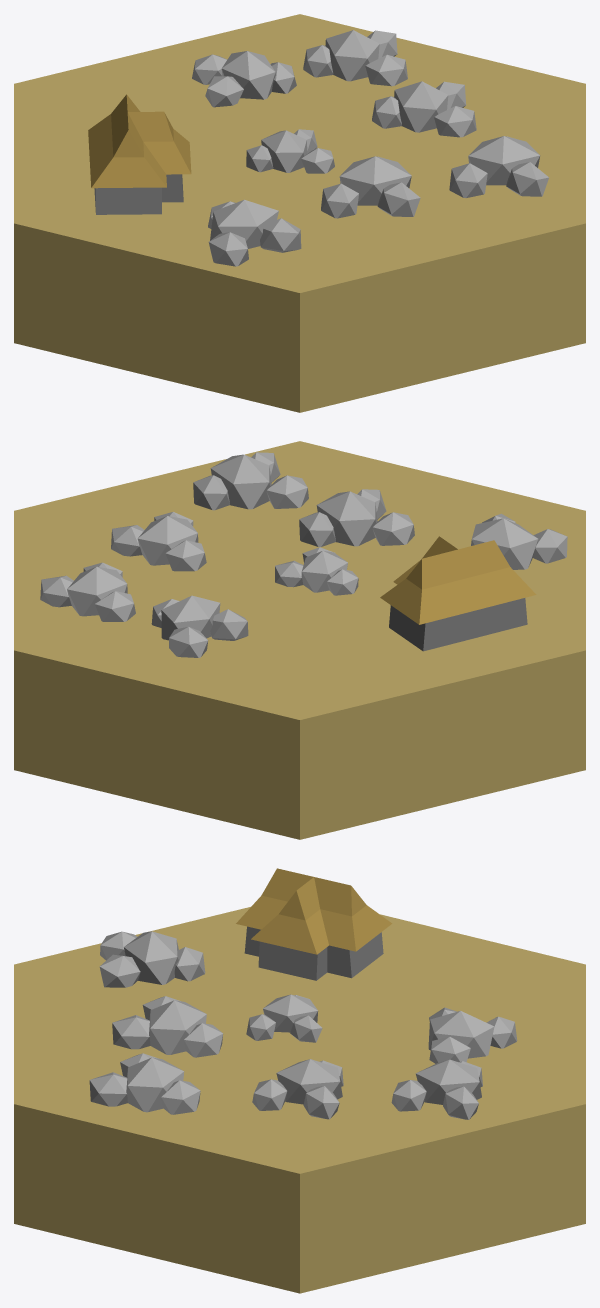
The model's file is Casas_Rocoso_6.fbx.
The picture shows the model from 3 angles, top to bottom: view 1: azimuth 30°, elevation 25°; view 2: azimuth 150°, elevation 25°; view 3: azimuth 270°, elevation 25°; orthographic projection.
Parts seen in each view (by area): view 1: Casas_Rocoso_6; view 2: Casas_Rocoso_6; view 3: Casas_Rocoso_6.
Part boxes in pixels (bbox=[...]): Casas_Rocoso_6: bbox=[14, 14, 585, 412]; Casas_Rocoso_6: bbox=[14, 441, 585, 839]; Casas_Rocoso_6: bbox=[14, 868, 585, 1293].
Bounding box in the file's own units: 200 × 65.63 × 173.
